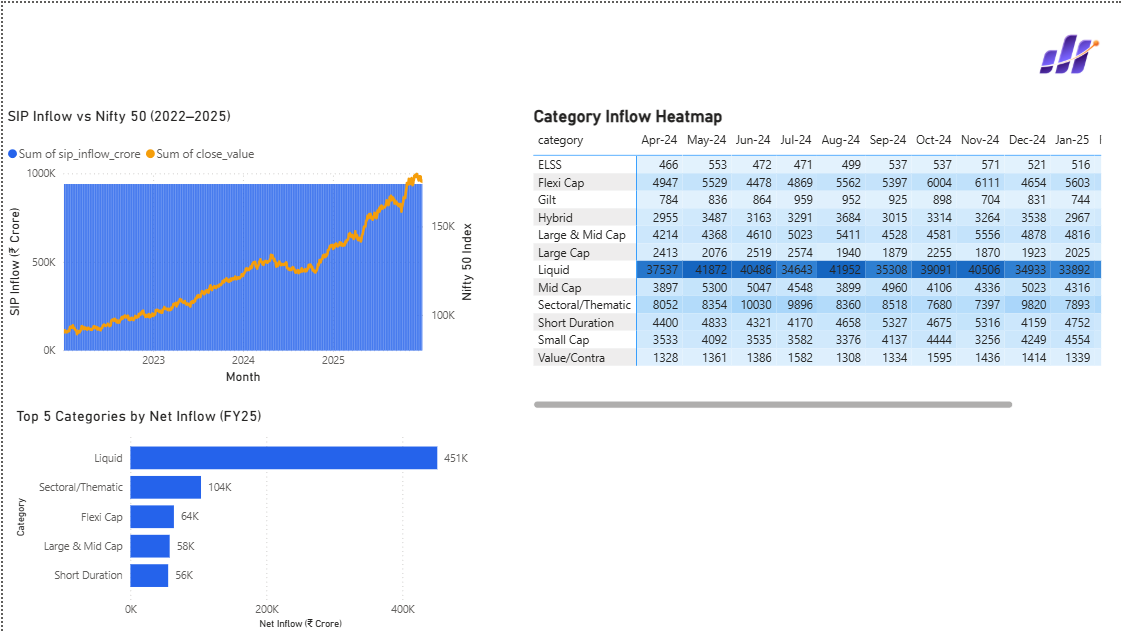

The page's visual inventory and layout, read from the dashboard file:
{"tool":"powerbi","page":{"name":"SIP & Market Trends","canvas":[1280,720],"ordinal":3},"visuals":[{"type":"lineClusteredColumnComboChart","title":"SIP Inflow vs Nifty 50 (2022–2025)","fields":{"Category":["10_benchmark_indices.date"],"Y":["Sum(04_monthly_sip_inflows.sip_inflow_crore)"],"Y2":["Sum(10_benchmark_indices.close_value)"]},"box":[0,118,543.4,322.5],"z":0},{"type":"pivotTable","title":"Category Inflow Heatmap","fields":{"Rows":["05_category_inflows.category"],"Values":["Sum(05_category_inflows.net_inflow_crore)"],"Columns":["05_category_inflows.month"]},"box":[601,118,658.7,349.9],"z":1000},{"type":"clusteredBarChart","title":"Top 5 Categories by Net Inflow (FY25)","fields":{"Category":["05_category_inflows.category"],"Y":["Sum(05_category_inflows.net_inflow_crore)"]},"box":[9.6,461.1,543.4,259.3],"z":2000},{"type":"image","box":[1174.6,16.5,85.1,82.3],"z":2001}]}

Visuals, with their boxes in screenshot pixels (x1, y1, x2, y2), scaled from the page's 1280x720 canvas onto the 1122x633 screenshot:
"SIP Inflow vs Nifty 50 (2022–2025)" lineClusteredColumnComboChart: <box>0,104,476,387</box>
"Category Inflow Heatmap" pivotTable: <box>527,104,1104,411</box>
"Top 5 Categories by Net Inflow (FY25)" clusteredBarChart: <box>8,405,485,632</box>
image: <box>1030,15,1104,87</box>
